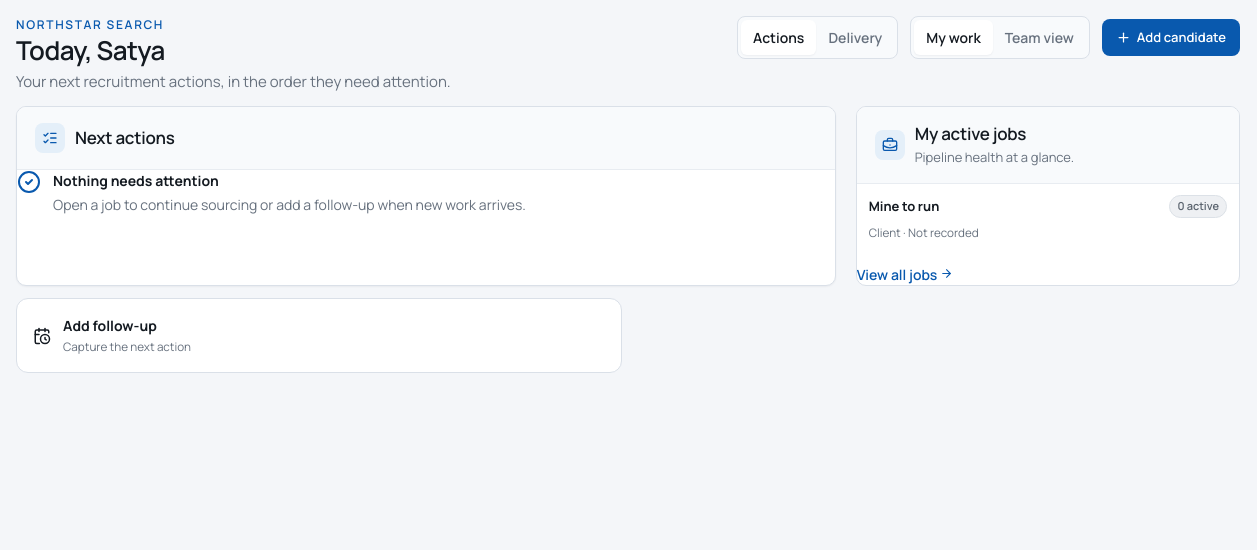
Today: My active jobs ownership › shows unassigned and colleagues jobs in team view, under a heading that does not claim them
This screenshot has width=1257, height=550.
Expected: the heading "My active jobs" is shown, [915,122,1026,145]
Click the radio button labelled "Team view" at (1039, 38), box [993,20,1086,55]
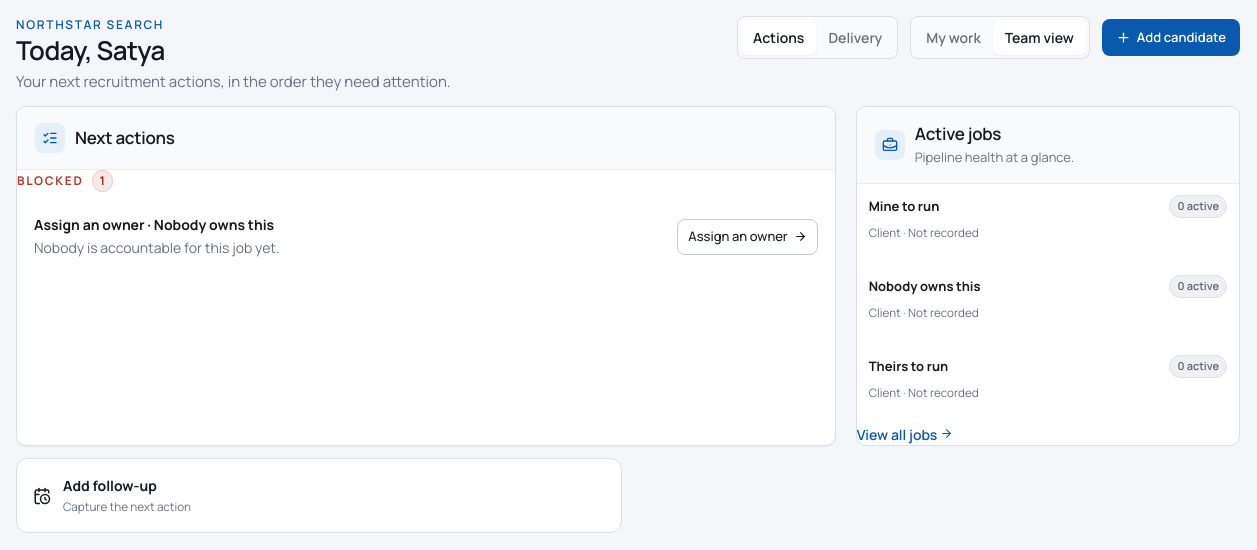
Expected: the heading "Active jobs" is shown, [915,122,1001,145]
Result: the text "Nobody owns this" is shown at [869,277,980,296]
Result: the text "Theirs to run" is shown at [869,357,948,376]
